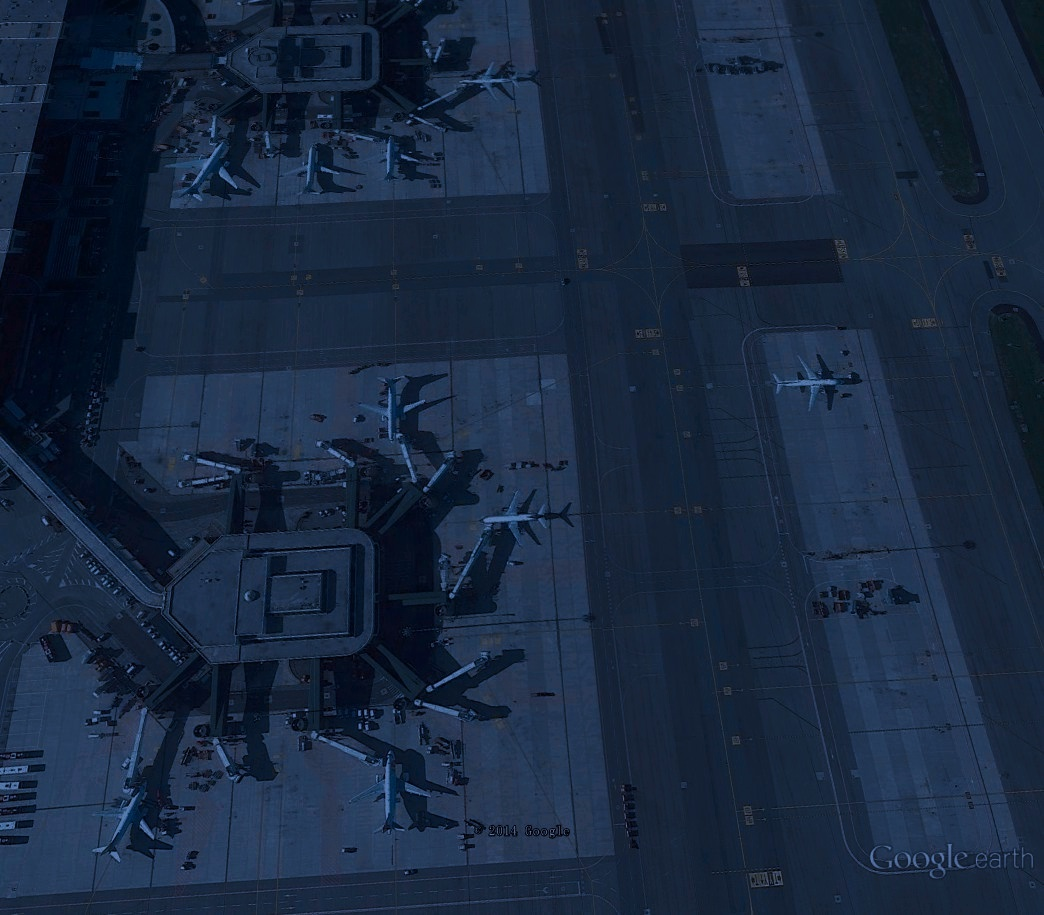aircraft: (342, 748, 444, 841), (85, 780, 163, 871), (157, 138, 244, 211), (351, 373, 435, 445), (475, 486, 558, 558), (765, 352, 852, 415), (360, 127, 424, 192), (276, 142, 349, 198), (453, 58, 525, 103)
